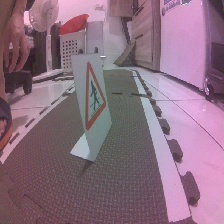pedestrian: (78, 57, 110, 135)
